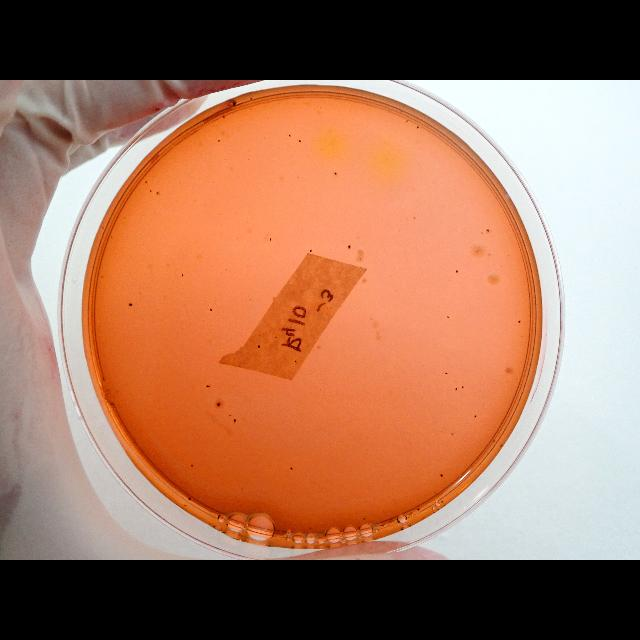colony: (346, 244, 352, 250), (268, 236, 274, 242), (128, 302, 134, 308), (308, 248, 314, 252), (257, 344, 261, 350), (155, 191, 159, 195), (144, 180, 148, 184), (232, 102, 236, 106), (308, 526, 312, 530), (288, 134, 292, 138), (233, 418, 237, 422), (209, 308, 213, 312), (222, 115, 225, 119), (416, 125, 419, 129), (486, 229, 489, 233), (517, 321, 521, 324), (441, 473, 444, 477), (207, 384, 210, 388), (290, 466, 294, 469), (148, 190, 152, 192), (110, 236, 114, 238), (218, 139, 220, 143), (405, 120, 409, 122), (456, 270, 458, 274), (455, 387, 457, 391), (444, 372, 448, 374), (474, 414, 476, 418), (492, 440, 496, 442), (362, 518, 366, 520), (188, 497, 190, 501), (191, 464, 193, 468), (182, 273, 184, 277), (298, 140, 302, 142), (334, 171, 336, 175), (218, 402, 220, 406), (228, 414, 232, 416), (102, 227, 104, 230), (481, 232, 484, 234), (446, 316, 449, 318), (451, 433, 454, 435), (441, 501, 443, 504), (416, 508, 419, 510), (250, 98, 252, 100), (462, 386, 464, 388), (500, 444, 502, 446), (295, 360, 297, 362)
